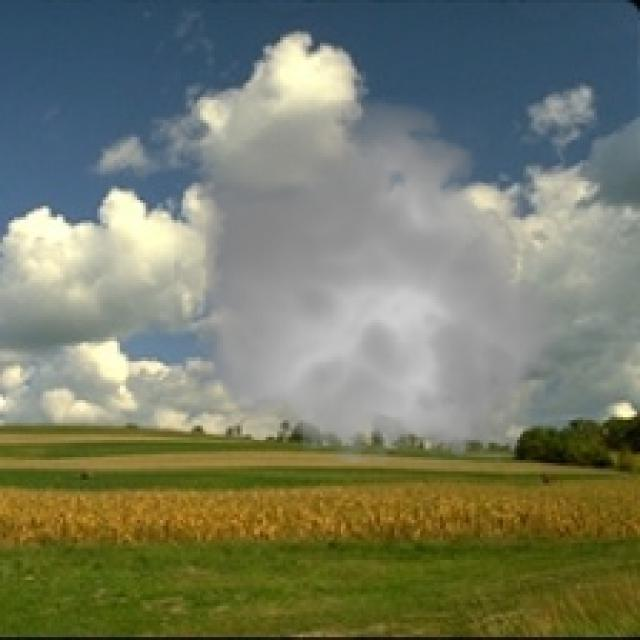Smoke: (174, 86, 577, 480)
